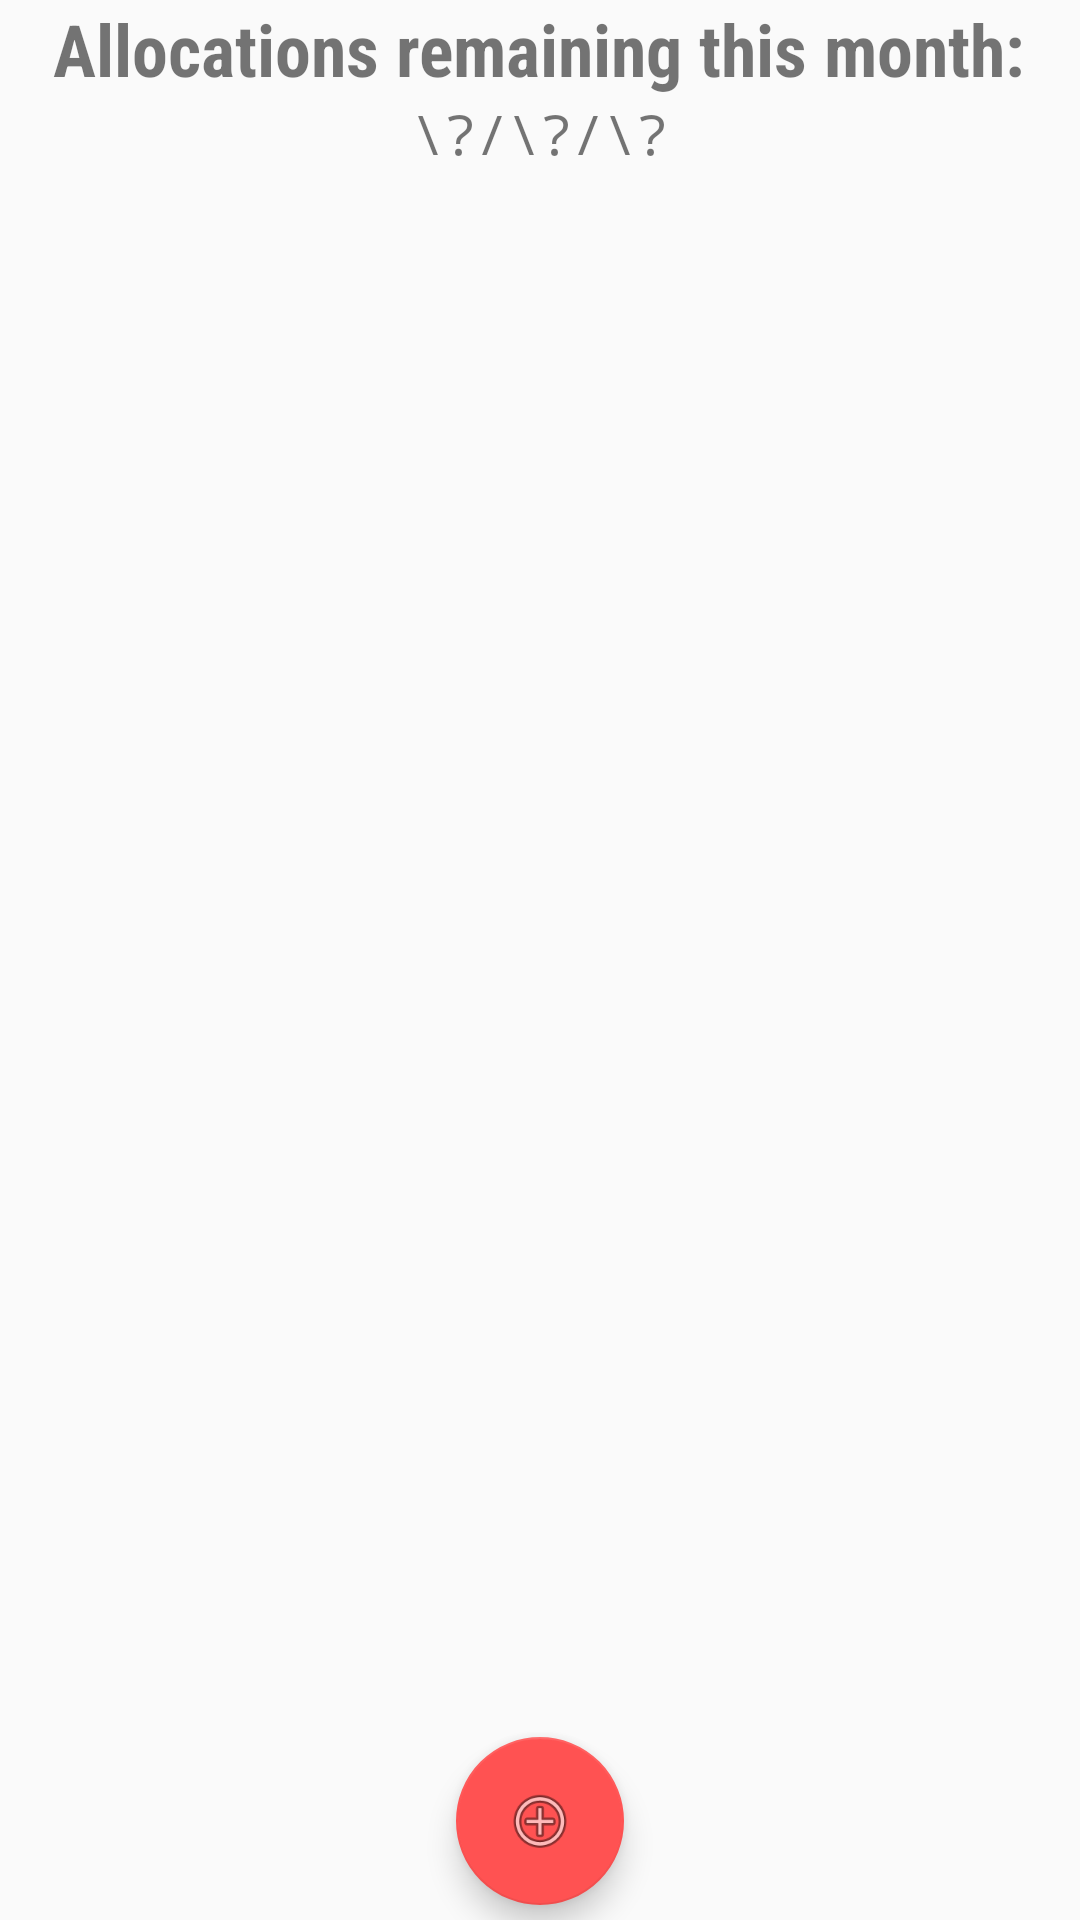

Where to tap for icons on this 1080 × 1920 app screen, as point (x, y):
add: point (540, 1821)
